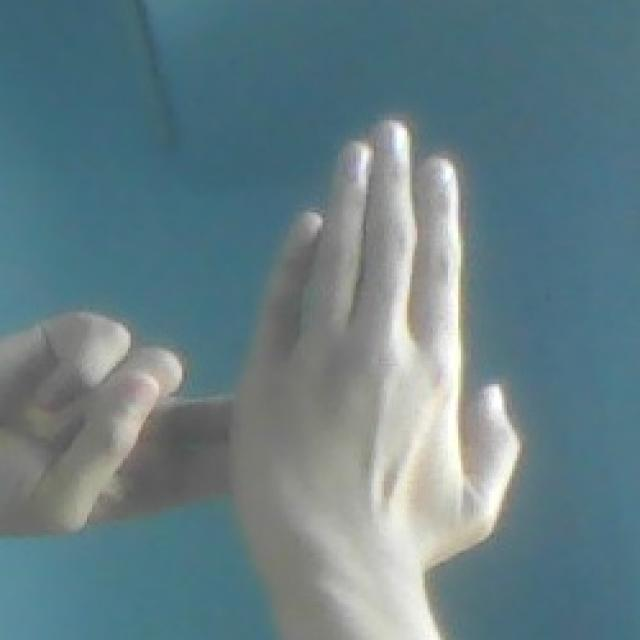Alphabet-N: (0, 104, 518, 587)
